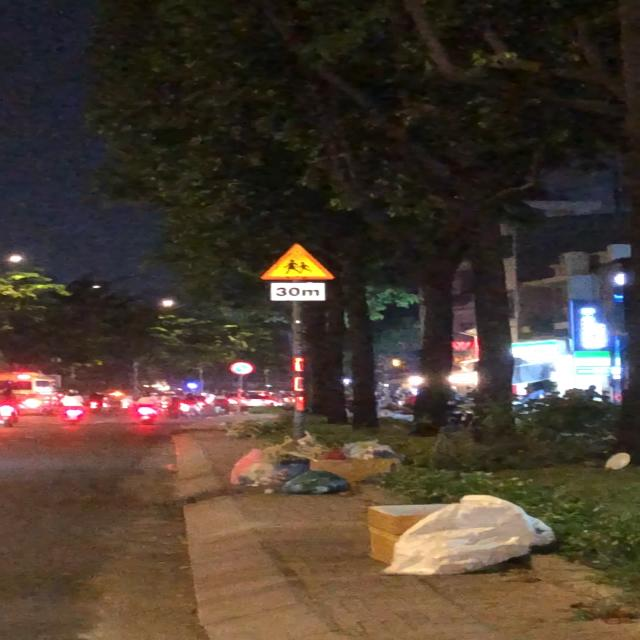Bien bao tre em: (257, 240, 337, 282)
